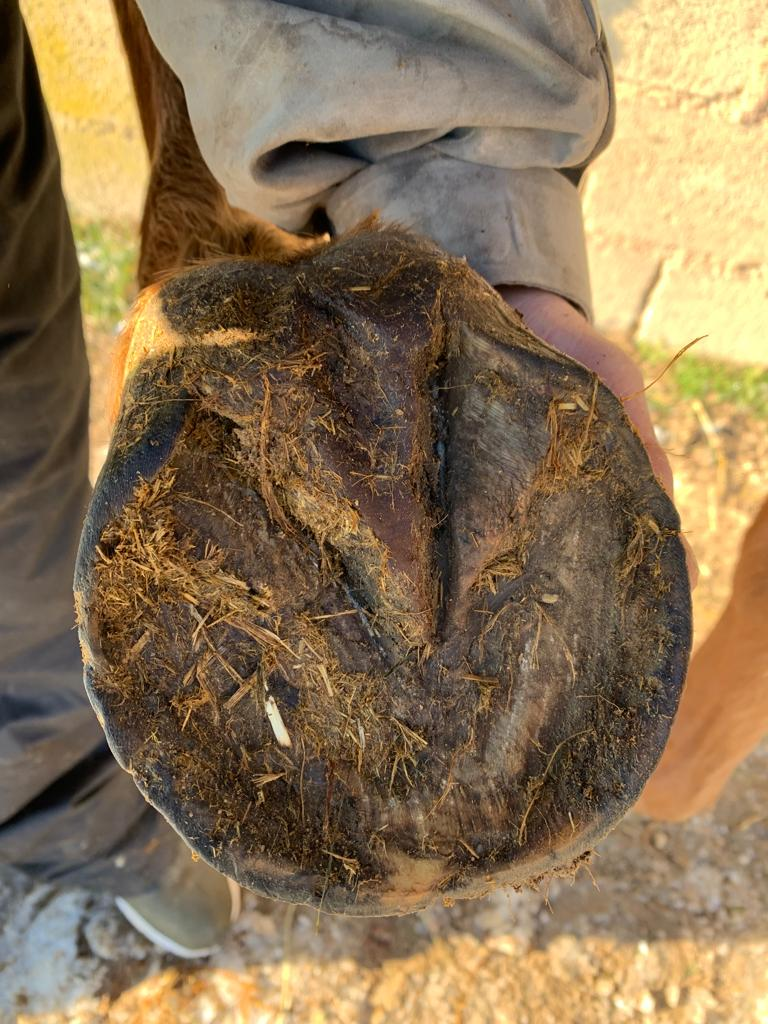horsesole: (72, 311, 695, 916)
